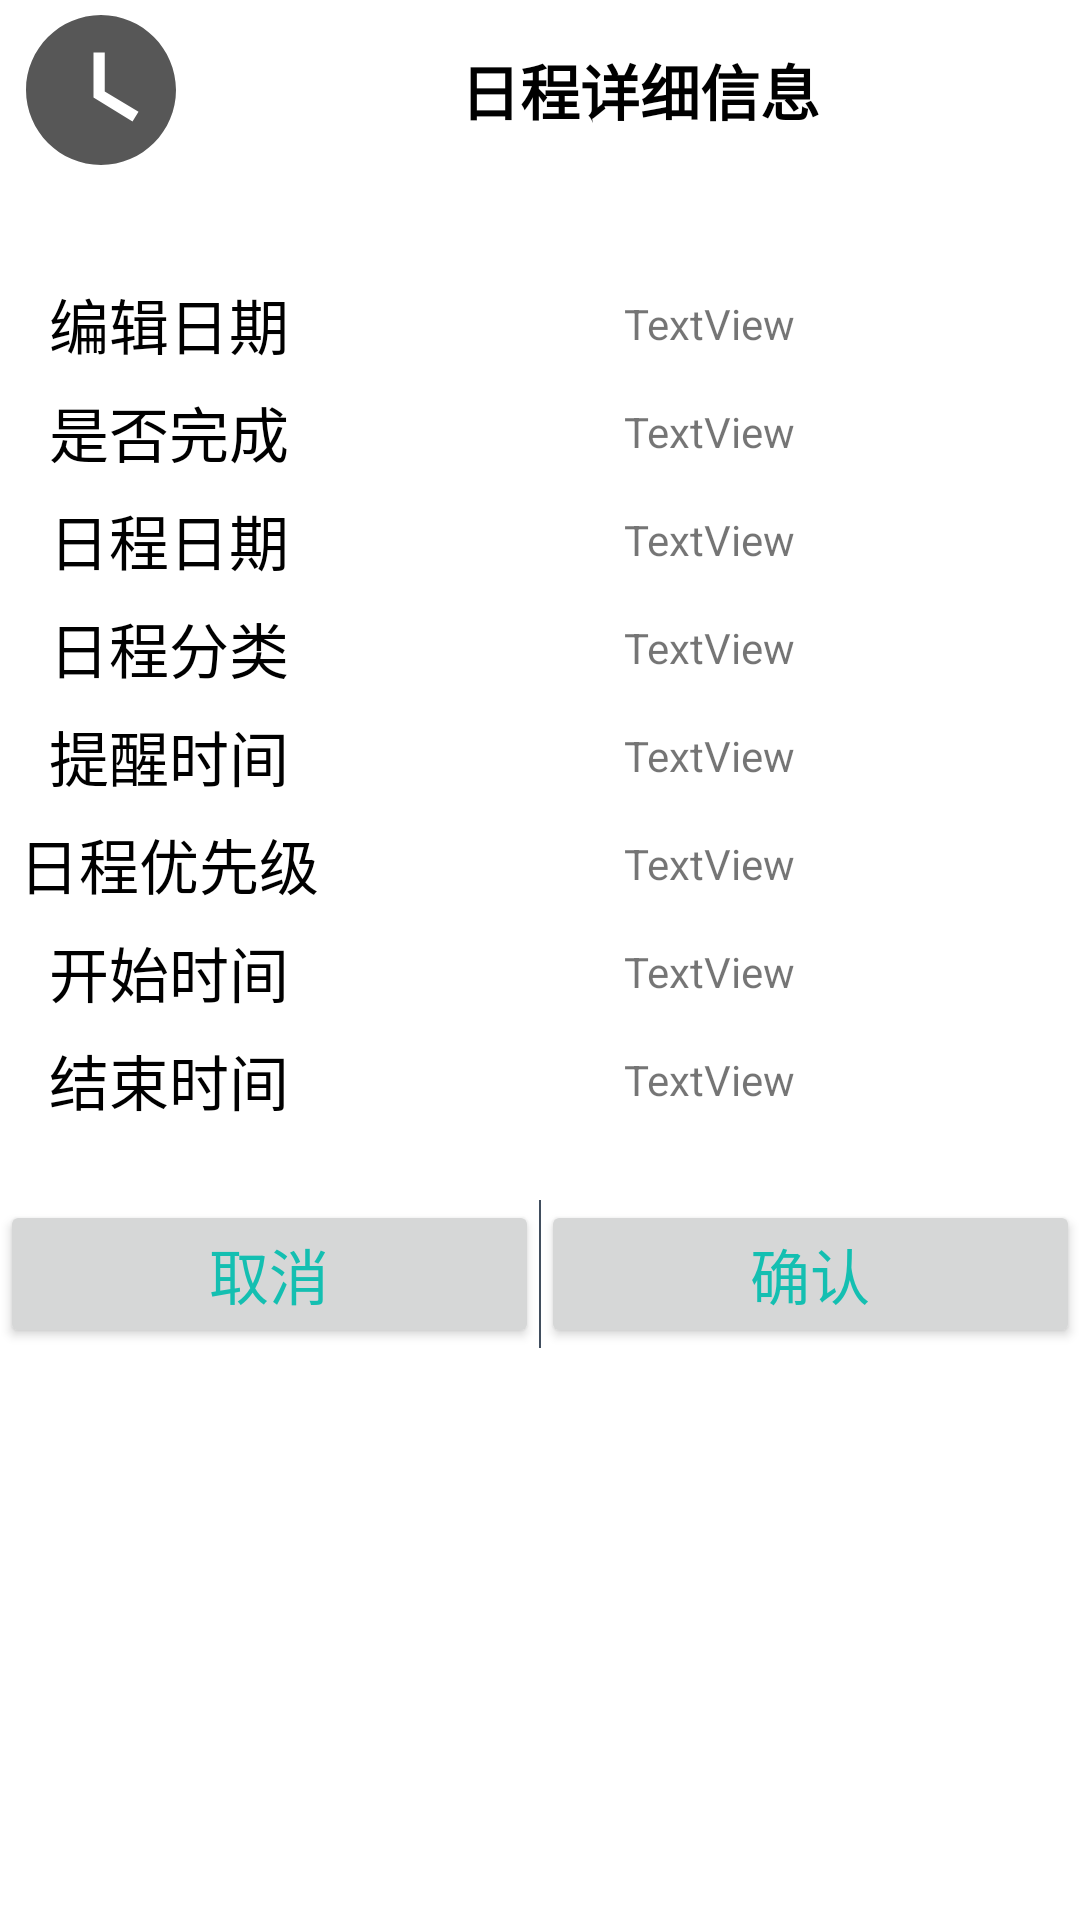

Icon click points for this 1080w x 1920h phone screenshot, format point (x, y):
daojishi: point (101, 90)
